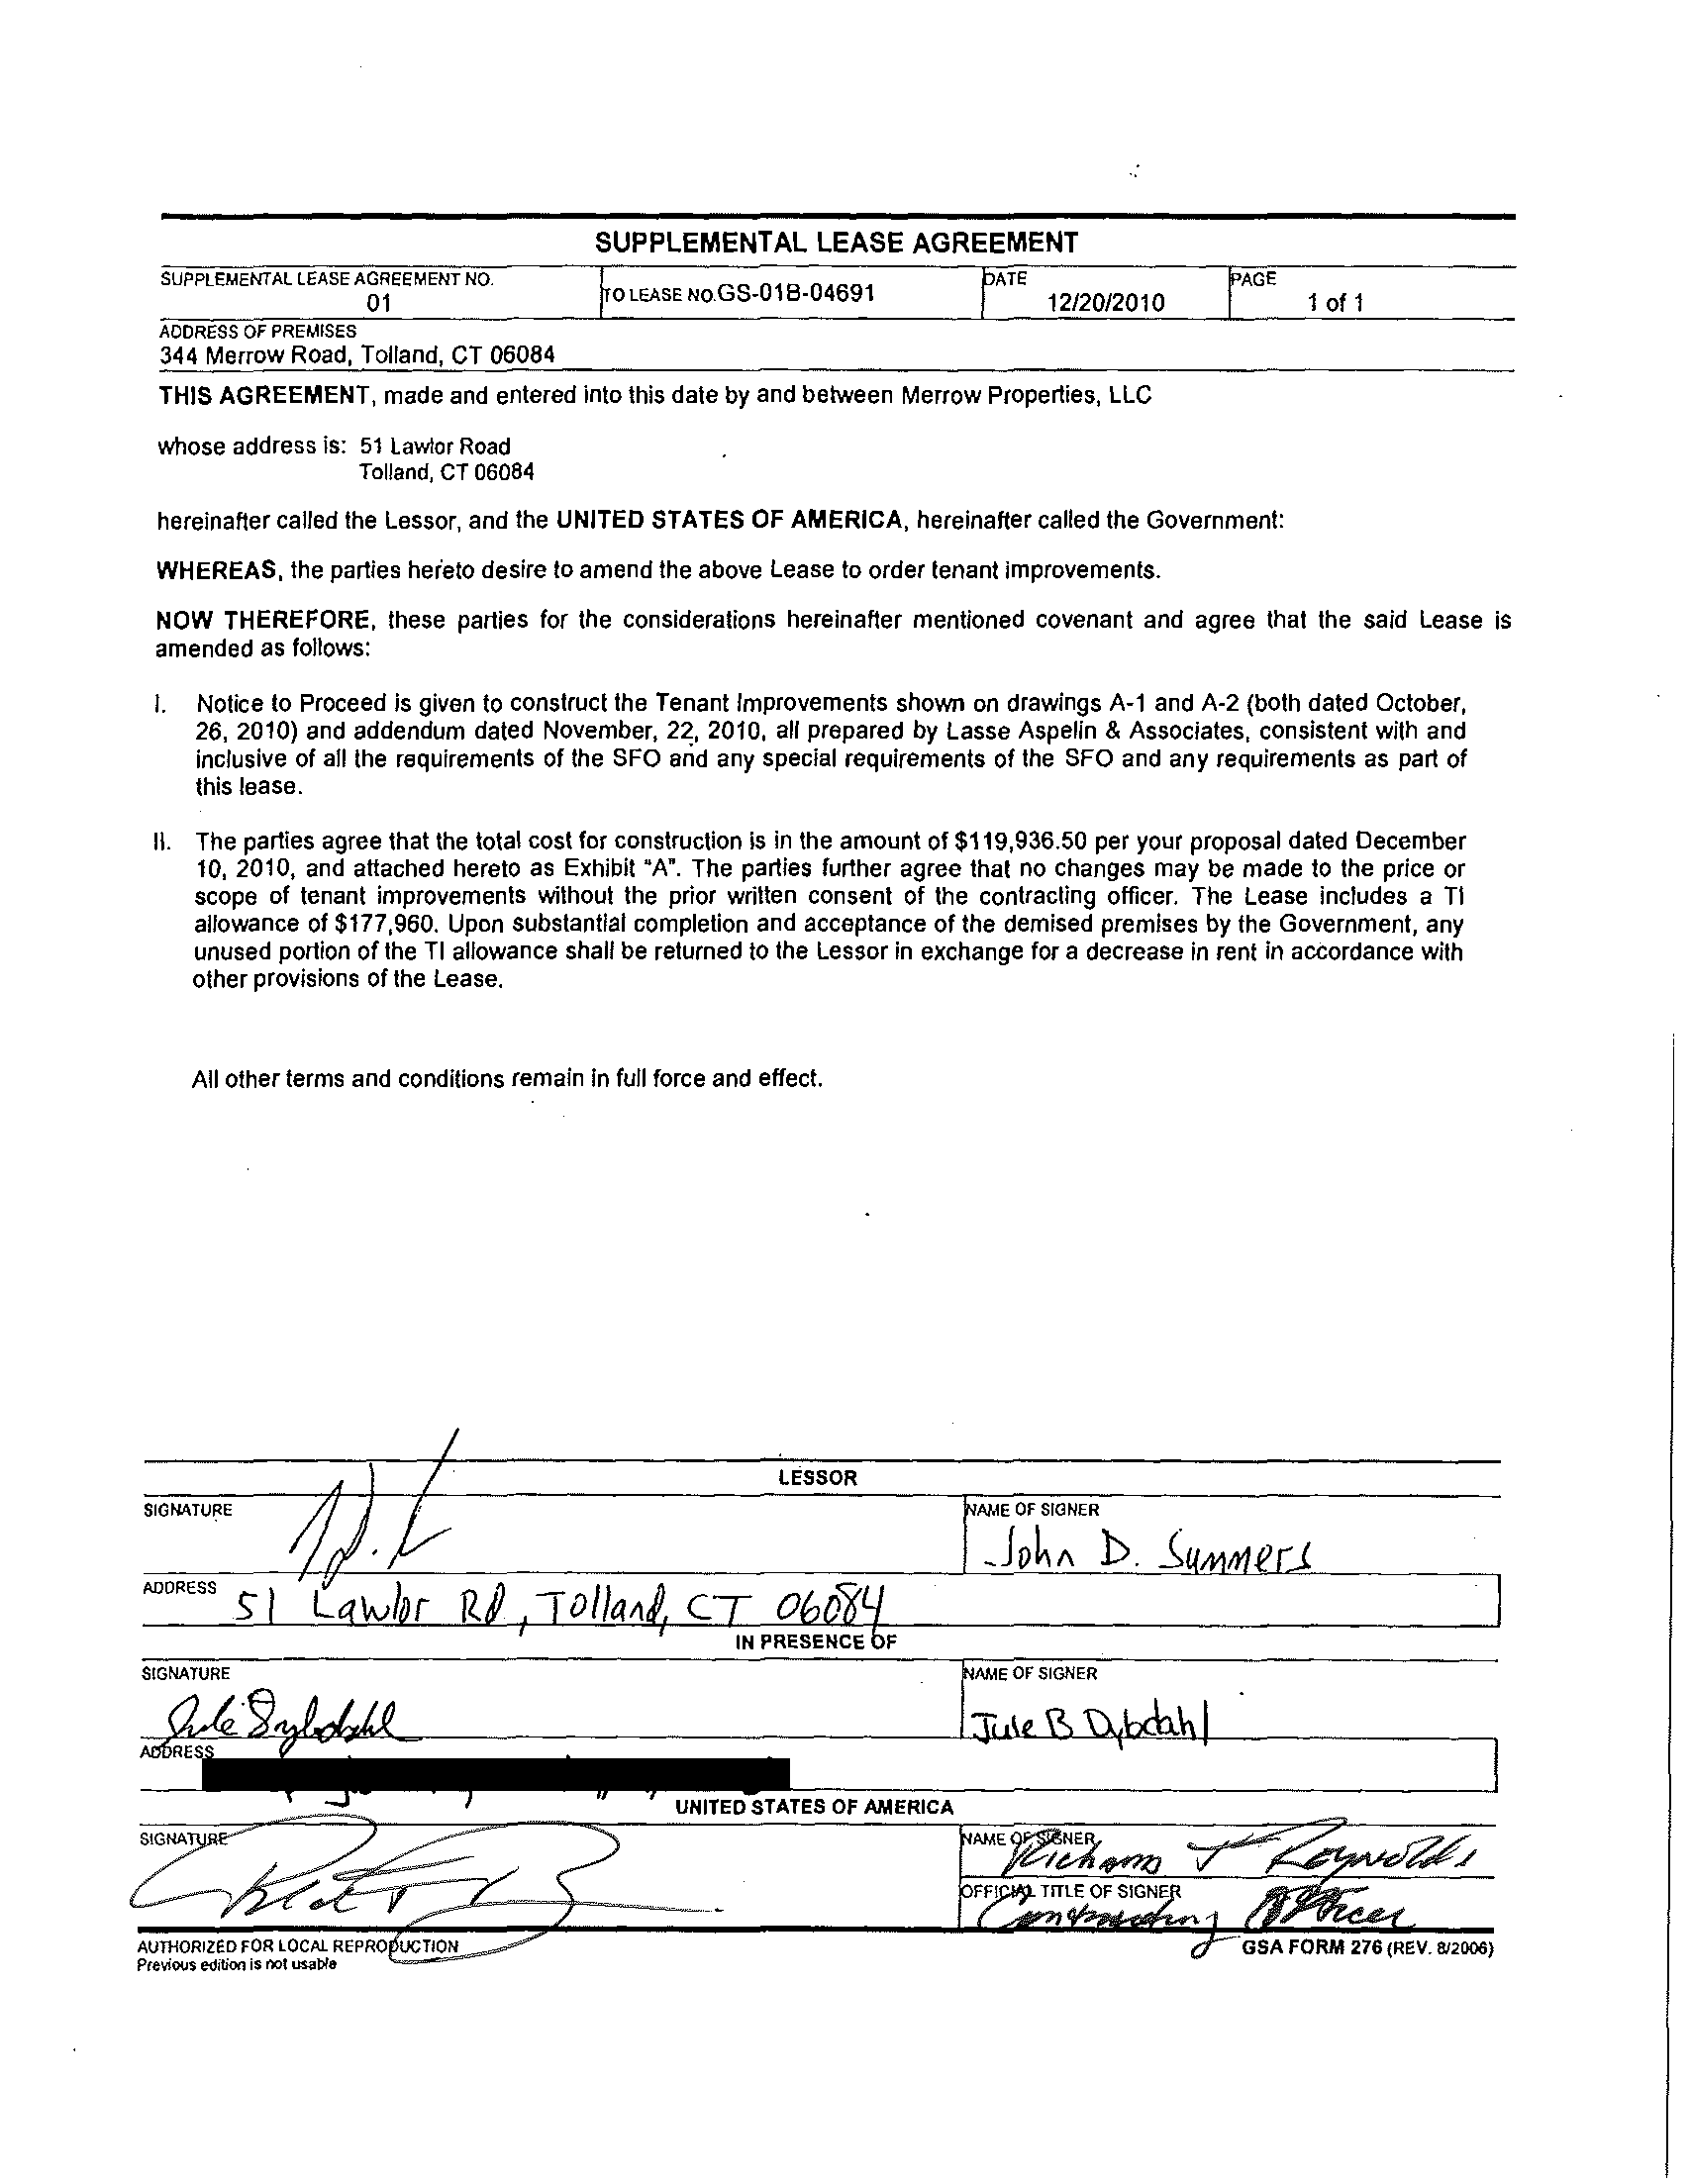handwritten: (129, 1796, 718, 1943), (225, 1571, 890, 1633), (275, 1459, 555, 1571), (978, 1514, 1358, 1592), (996, 1817, 1498, 1876), (961, 1881, 1453, 1936), (133, 1682, 427, 1748), (968, 1695, 1244, 1755)
